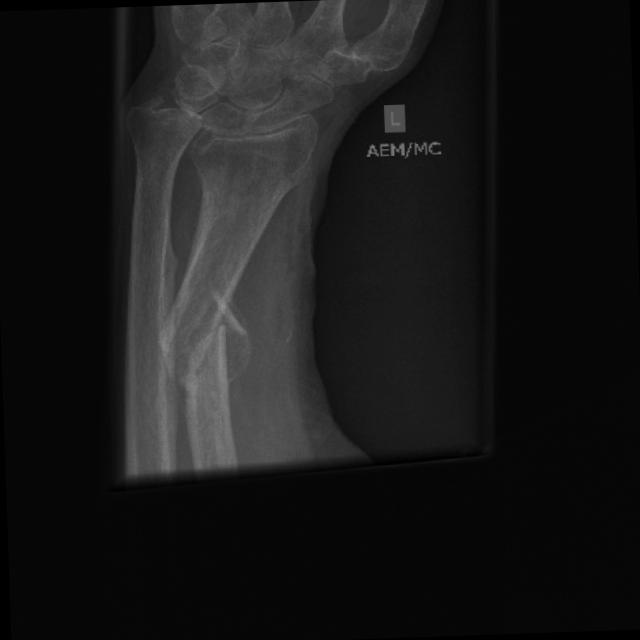forearm fracture: (149, 254, 262, 404)
